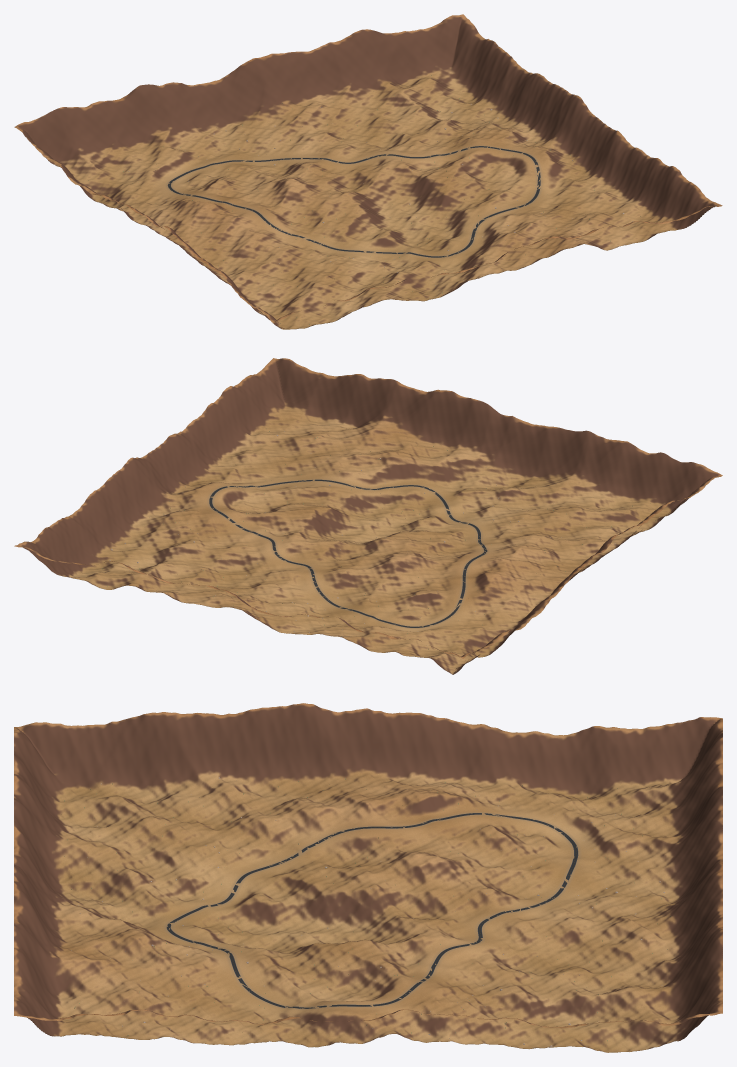
The model's file is desert.glb.
The picture shows the model from 3 angles, top to bottom: view 1: azimuth 30°, elevation 25°; view 2: azimuth 150°, elevation 25°; view 3: azimuth 270°, elevation 25°; orthographic projection. The views are drawn at different scales.
Parts seen in each view (by area): view 1: terrain_7_0, terrain_4_0, terrain_2_0, terrain_5_0, terrain_1_0, terrain_6_0, terrain_3_0, terrain_0_0, terrain_7_1, terrain_7_4, terrain_7_3, terrain_7_6 (+52 smaller); view 2: terrain_4_7, terrain_3_7, terrain_1_7, terrain_7_7, terrain_2_7, terrain_5_7, terrain_6_7, terrain_7_2, terrain_7_6, terrain_7_3, terrain_7_1, terrain_7_5 (+52 smaller); view 3: terrain_0_4, terrain_0_6, terrain_0_5, terrain_0_3, terrain_0_1, terrain_0_2, terrain_0_7, terrain_0_0, terrain_3_3, terrain_3_4, terrain_6_7, terrain_3_6 (+52 smaller).
Part boxes in pixels (left/top/right/bottom): terrain_7_0: left=407, top=14, right=495, bottom=90; terrain_4_0: left=238, top=52, right=326, bottom=127; terrain_2_0: left=126, top=82, right=212, bottom=152; terrain_5_0: left=295, top=35, right=381, bottom=109; terrain_1_0: left=69, top=96, right=157, bottom=169; terrain_6_0: left=350, top=29, right=438, bottom=99; terrain_3_0: left=181, top=67, right=269, bottom=142; terrain_0_0: left=14, top=107, right=100, bottom=177; terrain_7_1: left=439, top=42, right=527, bottom=113; terrain_7_4: left=536, top=114, right=625, bottom=181; terrain_7_3: left=504, top=87, right=592, bottom=151; terrain_7_6: left=601, top=158, right=689, bottom=226; terrain_4_7: left=410, top=390, right=498, bottom=472; terrain_3_7: left=466, top=413, right=554, bottom=488; terrain_1_7: left=578, top=439, right=667, bottom=510; terrain_7_7: left=241, top=358, right=329, bottom=426; terrain_2_7: left=523, top=427, right=610, bottom=499; terrain_5_7: left=354, top=379, right=441, bottom=448; terrain_6_7: left=298, top=374, right=386, bottom=435; terrain_7_2: left=79, top=477, right=166, bottom=551; terrain_7_6: left=208, top=382, right=297, bottom=451; terrain_7_3: left=111, top=456, right=199, bottom=520; terrain_7_1: left=46, top=509, right=134, bottom=575; terrain_7_5: left=178, top=406, right=263, bottom=476; terrain_0_4: left=280, top=703, right=369, bottom=797; terrain_0_6: left=103, top=712, right=192, bottom=803; terrain_0_5: left=193, top=706, right=279, bottom=797; terrain_0_3: left=369, top=709, right=458, bottom=790; terrain_0_1: left=546, top=726, right=635, bottom=803; terrain_0_2: left=459, top=722, right=546, bottom=800; terrain_0_7: left=14, top=722, right=103, bottom=802; terrain_0_0: left=635, top=717, right=722, bottom=799; terrain_3_3: left=369, top=855, right=458, bottom=915; terrain_3_4: left=280, top=866, right=369, bottom=924; terrain_6_7: left=14, top=931, right=103, bottom=1021; terrain_3_6: left=103, top=870, right=192, bottom=921.
Size of the model in its own units: 2000 by 238 by 2000.
4 materials, 2 textured.
